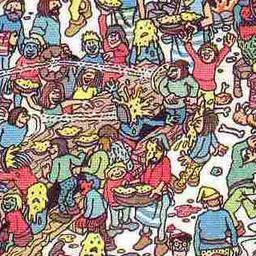waldo: (163, 223, 195, 256)
